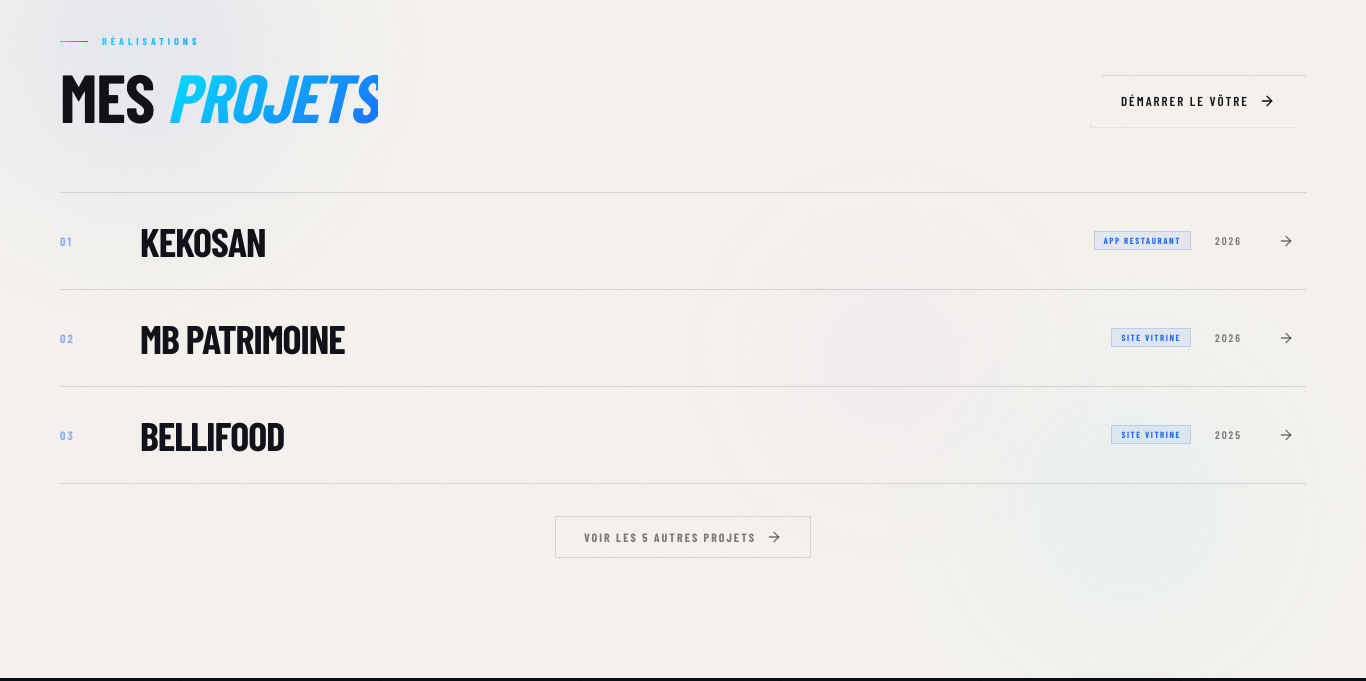
Test: Projects › replie les projets avec "voir moins"
Click the button "Voir les 5 autres projets" at (683, 536), box [555,516,811,558]
(page scrolled)
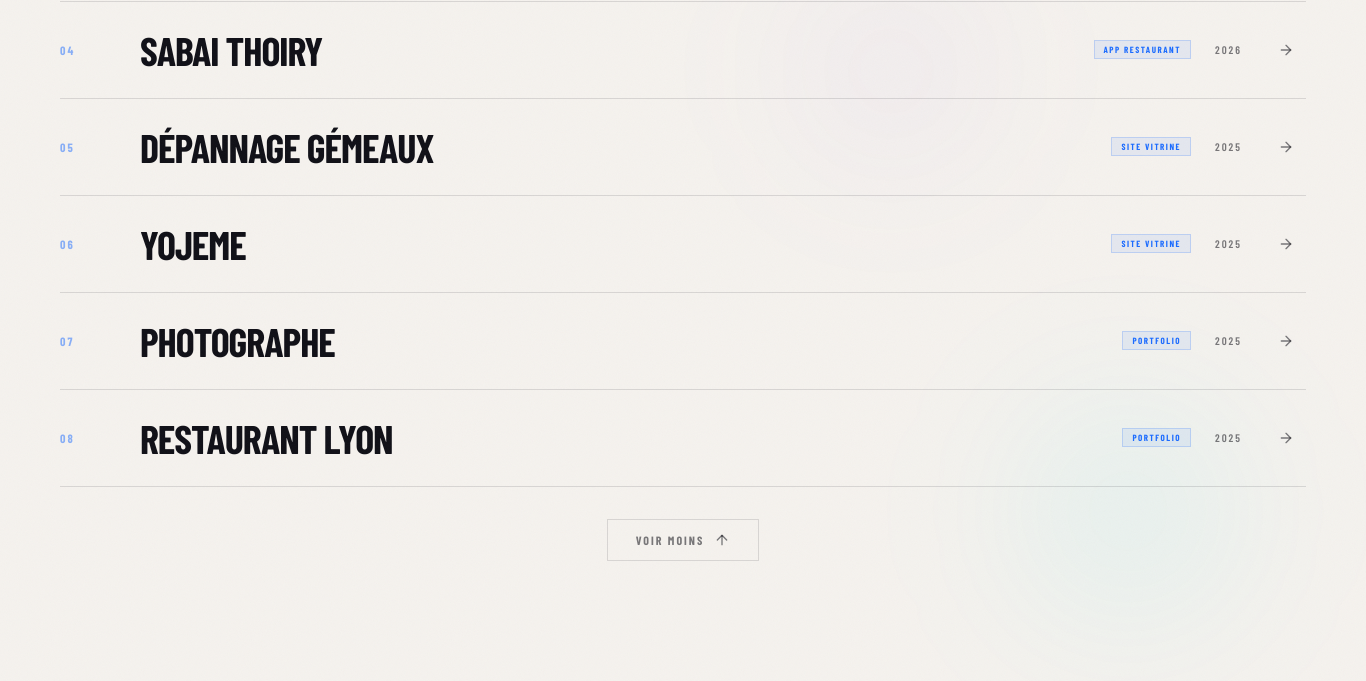
Click the button "Voir moins" at (683, 540), box [607,518,759,560]
(page scrolled)
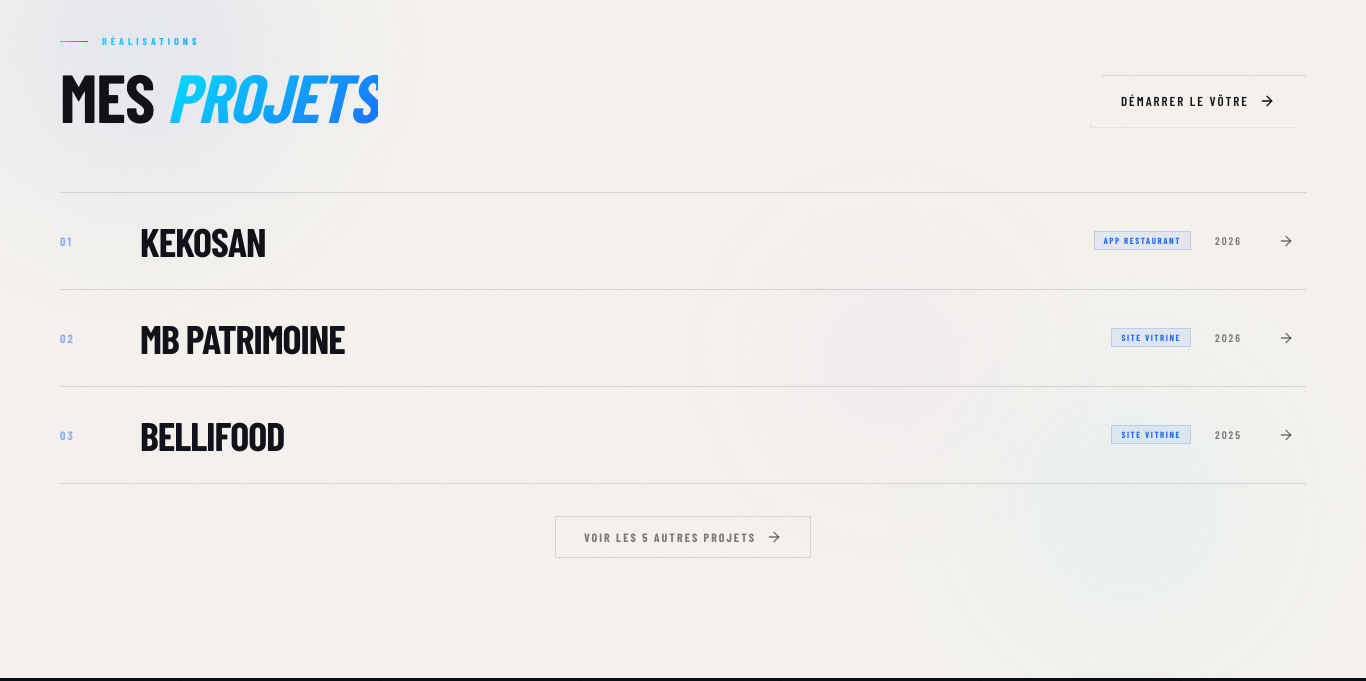
Check: the button "Dépannage Gémeaux" is gone
